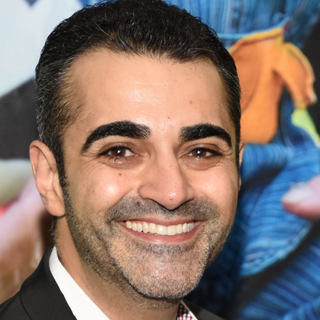eye: (96, 141, 143, 165), (181, 140, 225, 165)
